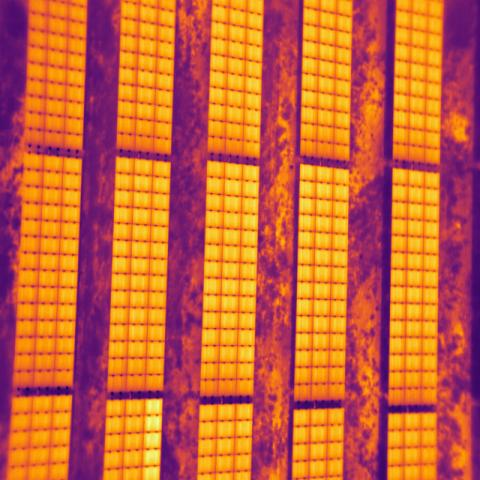fault: (142, 401, 162, 480)
